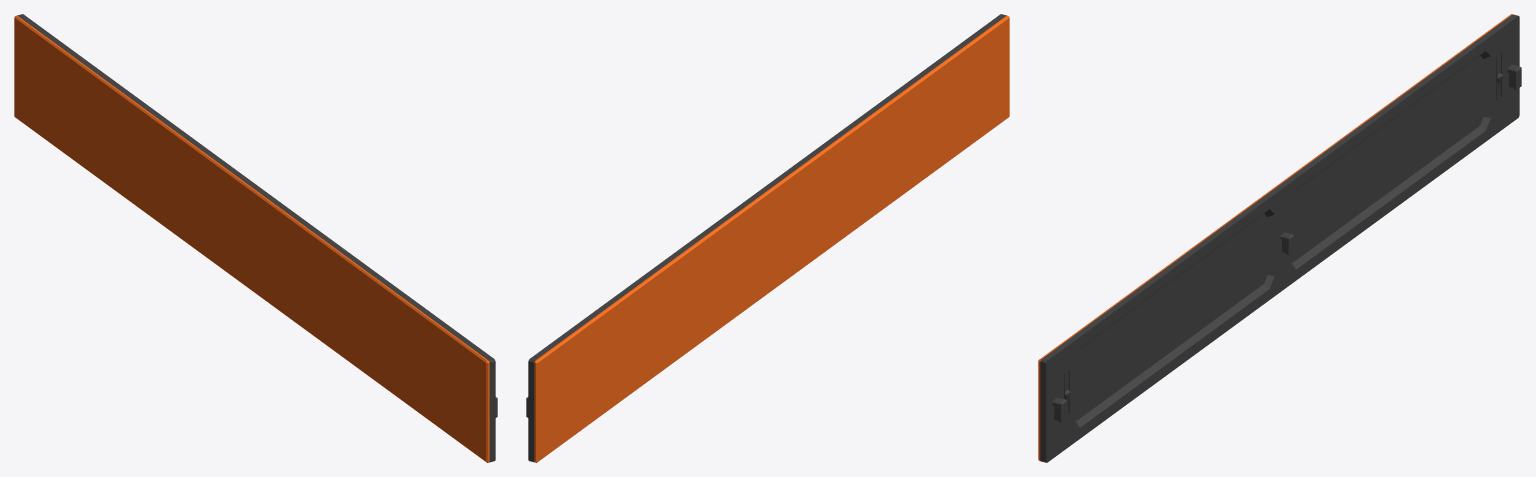
File: SideCover_240-05H.lib.glb
3 renders of one model, left to right at view 1: azimuth 30°, elevation 25°; view 2: azimuth 150°, elevation 25°; view 3: azimuth 330°, elevation 25°, orthographic.
Visible parts, largest first — view 1: SideCover_240-05H; view 2: SideCover_240-05H; view 3: SideCover_240-05H.
Part boxes in pixels (bbox=[...]): SideCover_240-05H: bbox=[14, 14, 497, 462]; SideCover_240-05H: bbox=[526, 14, 1009, 462]; SideCover_240-05H: bbox=[1038, 14, 1521, 462].
Bounding box in the file's own units: 5.04 × 27.58 × 232.
